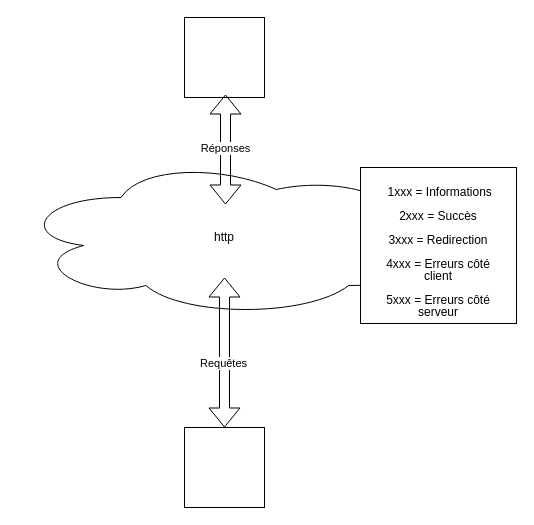
Image size: 534x525. Some labels were removed from this diagram. The shapes that lost their labels are listed below. From the top down, each one's box as (x1, y1, x2, y2) in pixels, then its label:
(184, 16, 264, 98): Serveur WEB
(184, 426, 264, 508): Client
